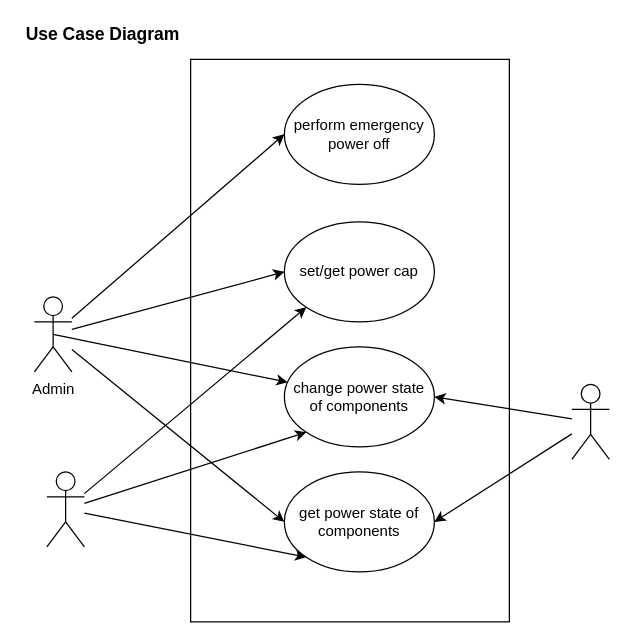
Some shapes in this 644 by 644 pixel diagram are drawn without their labels. Here are the shapes that lost their labels. From the top down, the centre of each, then its label:
point 590,421: BOS/FAS
point 65,509: Workload Manager
